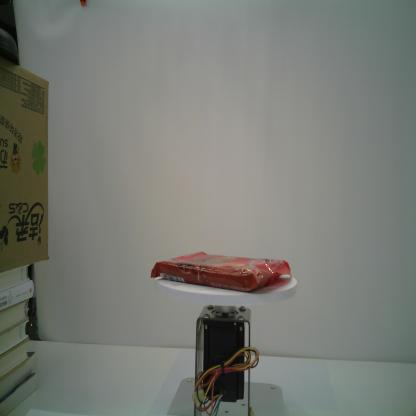Dessert: (149, 251, 293, 293)
